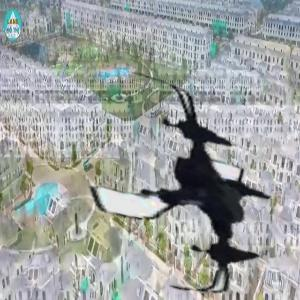drone: (67, 77, 288, 298)
